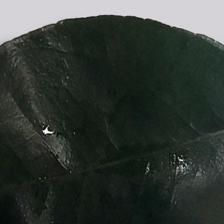healthy: (6, 27, 224, 224)
